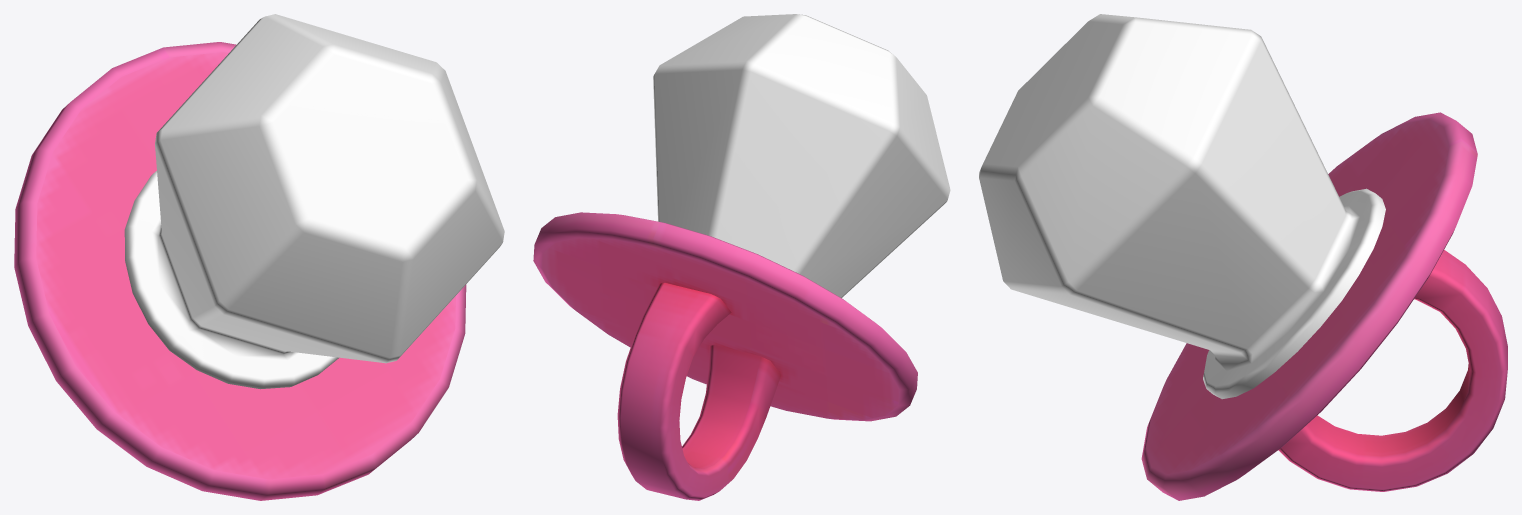
Rendered from ref_gtringcandy.glb.
3 views of the same model, side by side, from view 1: azimuth 30°, elevation 25°; view 2: azimuth 150°, elevation 25°; view 3: azimuth 270°, elevation 25° (orthographic). The views are drawn at different scales.
Parts seen in each view (by area): view 1: ref_gtringcandy; view 2: ref_gtringcandy; view 3: ref_gtringcandy.
Boxes of the visible parts, <box> form: ref_gtringcandy: <box>14,14,504,500</box>; ref_gtringcandy: <box>533,14,950,500</box>; ref_gtringcandy: <box>979,14,1507,500</box>.
Size of the model in its own units: 0.8976 by 0.962 by 1.
1 material, 1 textured.
